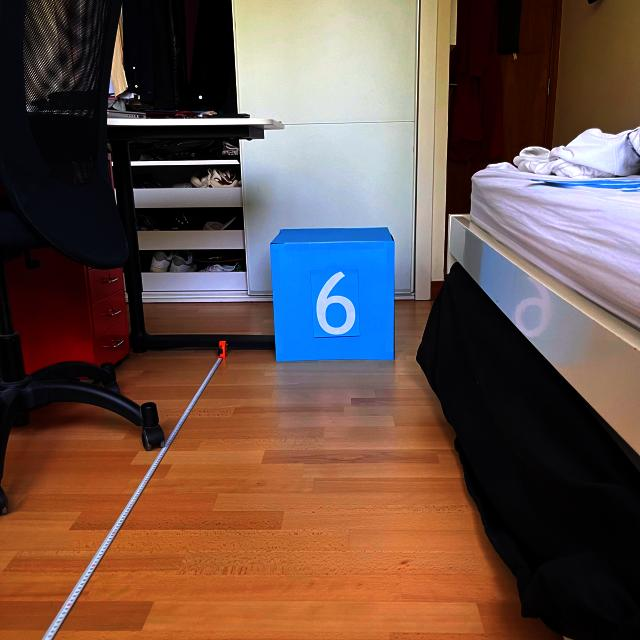box: (266, 223, 398, 363)
